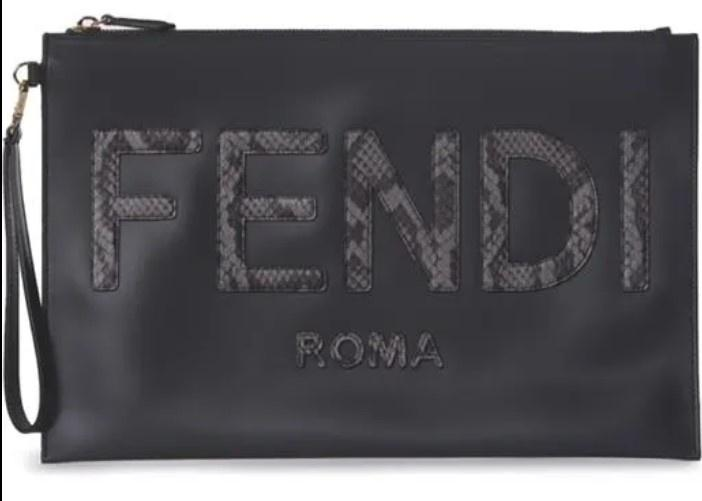FENDI: (91, 127, 651, 294)
